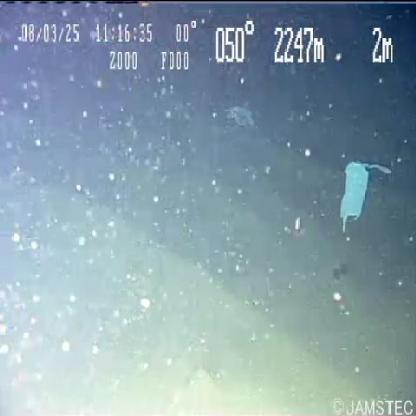Rác: (340, 162, 370, 222)
